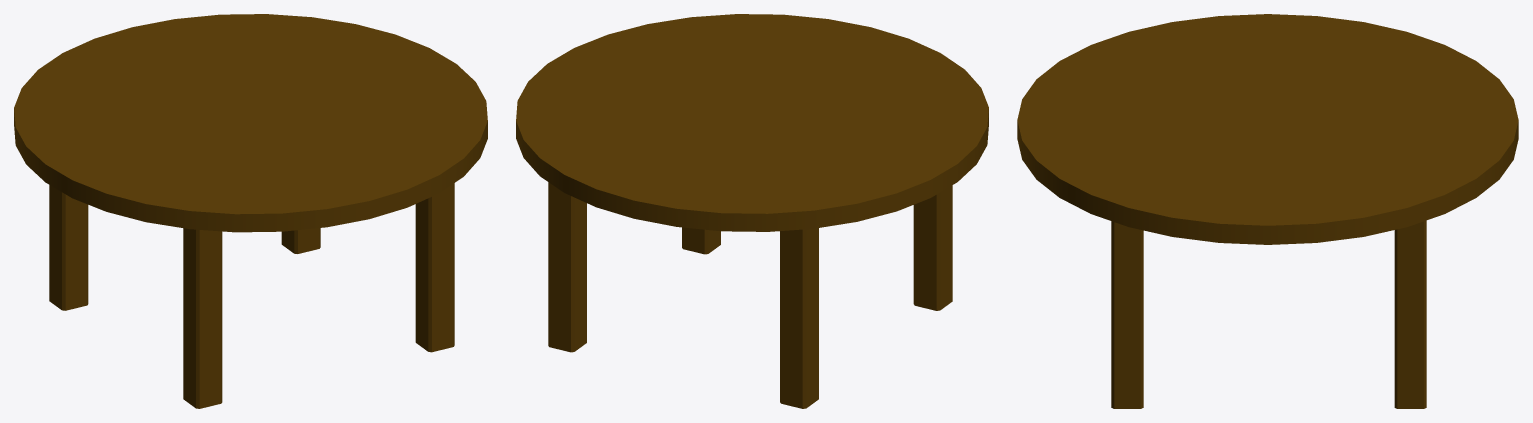
File: table_circular.fbx
3 views of the same model, side by side, from view 1: azimuth 30°, elevation 25°; view 2: azimuth 150°, elevation 25°; view 3: azimuth 270°, elevation 25° (orthographic). The views are drawn at different scales.
Visible parts, largest first — view 1: Round_Tabòle; view 2: Round_Tabòle; view 3: Round_Tabòle.
Boxes of the visible parts, x1,y1,x2,y2 form: Round_Tabòle: (14,14,487,408); Round_Tabòle: (516,14,988,408); Round_Tabòle: (1017,14,1518,408).
Bounding box in the file's own units: 318 × 155 × 318.
